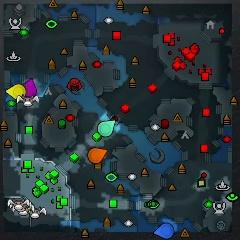p1: (154, 223, 174, 238)
p2: (98, 121, 115, 136)
p3: (23, 79, 37, 97)
p4: (6, 84, 26, 99)
p5: (88, 149, 107, 163)
